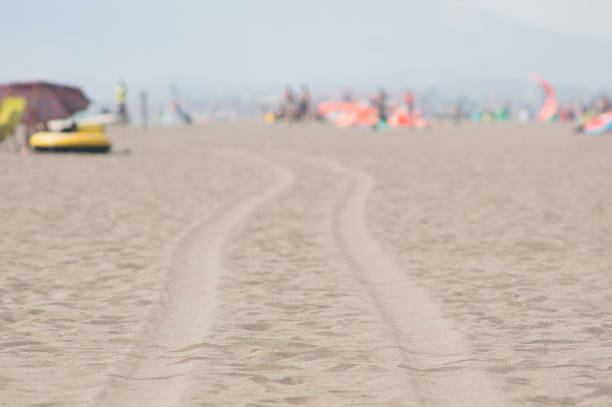vehicle_track: (97, 152, 293, 406), (325, 161, 504, 406)
